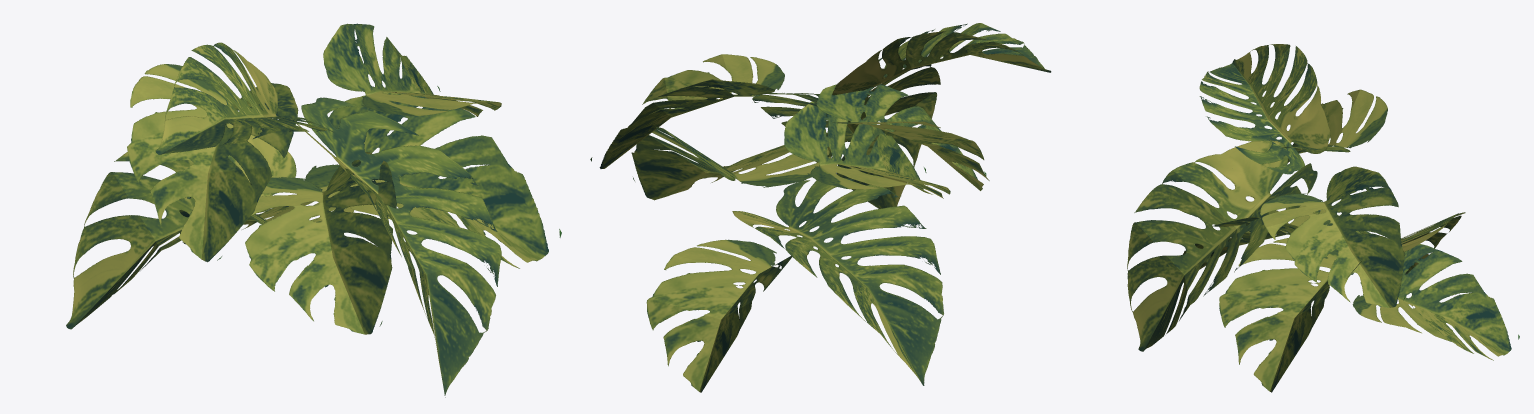
File: Monstera.fbx
The picture shows the model from 3 angles, left to right: view 1: azimuth 30°, elevation 25°; view 2: azimuth 150°, elevation 25°; view 3: azimuth 270°, elevation 25°; orthographic projection. The views are drawn at different scales.
Parts seen in each view (by area): view 1: Plane.024; view 2: Plane.024; view 3: Plane.024.
Part boxes in pixels (x1=…): Plane.024: x1=66, y1=23, x2=561, y2=397; Plane.024: x1=590, y1=23, x2=1051, y2=392; Plane.024: x1=1127, y1=44, x2=1519, y2=392.
Bounding box in the file's own units: 193 × 144 × 214.
